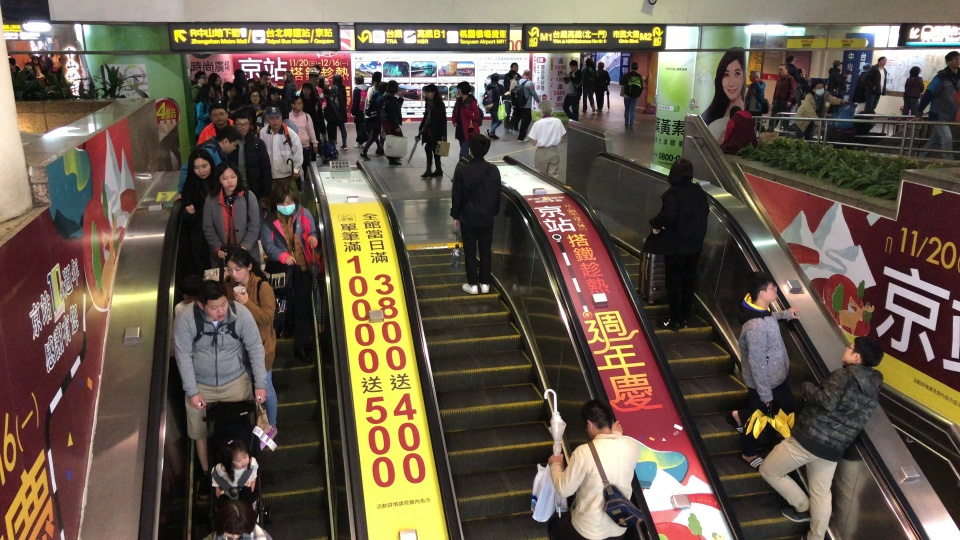person_head: (212, 499, 257, 540), (196, 279, 228, 323), (580, 399, 613, 441), (841, 335, 884, 367), (220, 437, 252, 471), (224, 247, 253, 283), (185, 147, 215, 180), (270, 183, 299, 216), (213, 160, 240, 192), (666, 158, 694, 186), (178, 274, 203, 305), (216, 126, 239, 155), (467, 133, 491, 160), (232, 109, 251, 137), (208, 102, 228, 126), (264, 105, 283, 129), (537, 98, 553, 116), (455, 80, 471, 97), (945, 51, 960, 69), (193, 69, 208, 85), (424, 84, 439, 100), (810, 80, 825, 96), (200, 83, 214, 100), (289, 95, 303, 112), (728, 105, 743, 120), (233, 68, 247, 83), (385, 80, 399, 95), (223, 84, 237, 98), (208, 72, 221, 87), (248, 90, 261, 105), (307, 71, 320, 86), (259, 71, 271, 87), (300, 82, 313, 96), (747, 70, 761, 83), (268, 87, 280, 102), (370, 70, 382, 85), (245, 77, 258, 90), (281, 70, 294, 83), (375, 81, 387, 94), (908, 65, 920, 77), (318, 76, 329, 89), (258, 83, 267, 98), (331, 73, 342, 85), (489, 72, 500, 84), (777, 63, 788, 75), (860, 62, 872, 73), (876, 56, 887, 68), (353, 74, 364, 85), (310, 64, 321, 74), (521, 67, 531, 78), (507, 69, 517, 80), (8, 57, 17, 69), (569, 59, 578, 71), (630, 60, 639, 72), (30, 55, 39, 66), (510, 62, 519, 73), (786, 55, 796, 64), (832, 59, 841, 69), (585, 58, 593, 68), (24, 61, 32, 70), (797, 68, 805, 77), (597, 61, 604, 69), (39, 47, 45, 56)
person_vbox: (758, 335, 884, 540), (171, 278, 268, 501), (725, 270, 802, 471), (547, 399, 640, 540), (642, 158, 710, 333), (223, 246, 279, 442), (260, 183, 319, 364), (449, 132, 501, 295), (201, 160, 261, 269), (172, 126, 240, 201), (913, 51, 960, 159), (254, 105, 303, 207), (179, 147, 216, 275), (209, 437, 259, 522), (231, 109, 273, 205), (793, 79, 850, 144), (527, 97, 567, 181), (450, 80, 480, 182), (199, 499, 273, 540), (417, 84, 448, 179), (288, 95, 318, 183), (357, 81, 387, 160), (379, 80, 405, 167), (511, 67, 540, 143), (298, 83, 326, 161), (766, 63, 796, 132), (482, 72, 511, 140), (719, 105, 757, 154), (618, 60, 643, 129), (195, 101, 233, 146), (173, 274, 203, 325), (317, 76, 337, 150), (863, 56, 888, 115), (502, 62, 522, 134), (744, 69, 766, 133), (350, 74, 369, 148), (330, 73, 348, 150), (561, 59, 583, 122), (901, 65, 924, 120), (746, 271, 778, 308), (194, 82, 214, 140), (851, 62, 872, 115), (578, 58, 598, 113), (363, 70, 382, 122), (785, 55, 802, 108), (261, 87, 289, 119), (826, 59, 849, 97), (243, 90, 265, 129), (190, 69, 208, 116), (594, 61, 610, 113), (280, 70, 296, 119), (307, 71, 326, 111), (222, 83, 238, 111), (208, 73, 223, 101), (38, 48, 53, 74), (29, 55, 44, 79), (7, 57, 22, 76), (507, 69, 518, 92), (49, 54, 61, 69), (580, 52, 589, 72)
